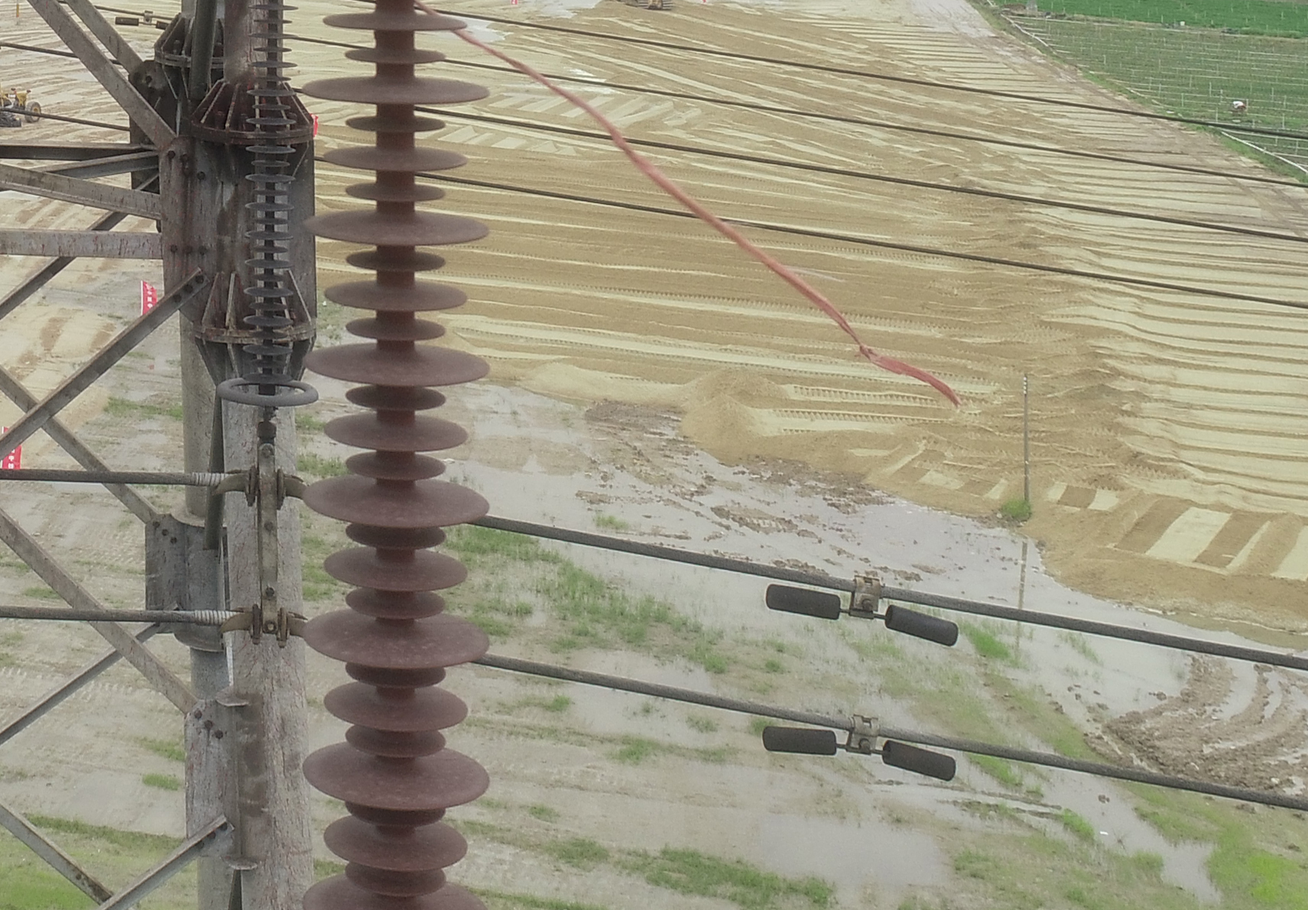damper: (761, 565, 959, 649), (758, 708, 958, 782)
